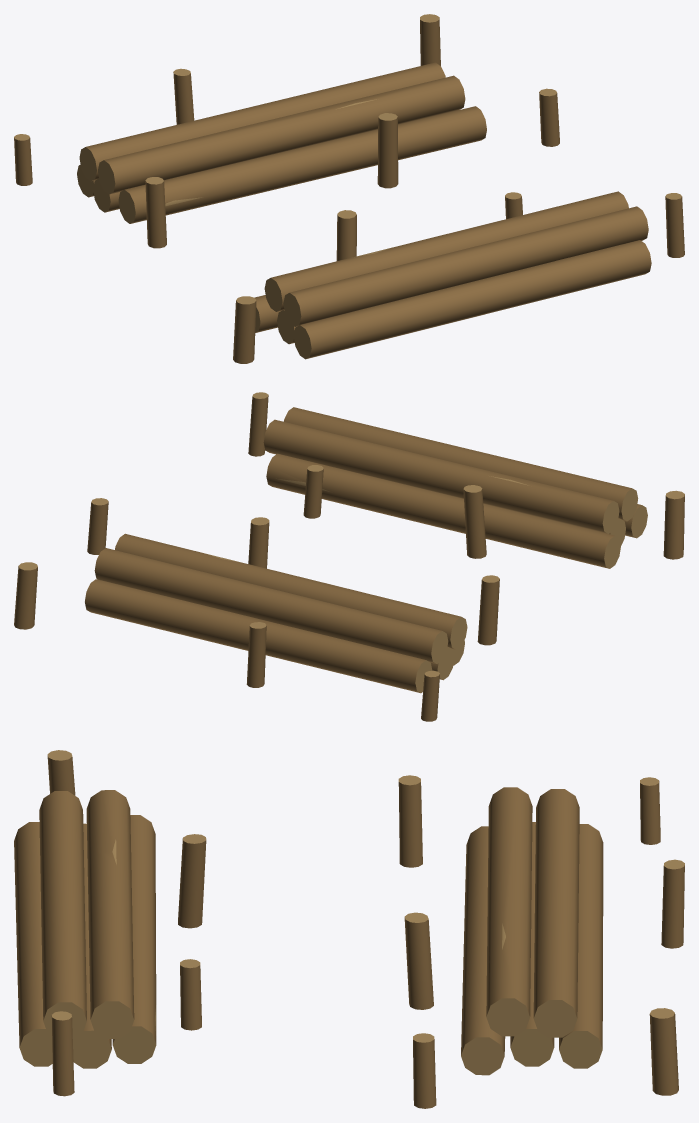
The model's file is quaternius-real-time-strategy-resource-pine-tree-group-cut.glb.
3 renders of one model, top to bottom at view 1: azimuth 30°, elevation 25°; view 2: azimuth 150°, elevation 25°; view 3: azimuth 270°, elevation 25°, orthographic. The views are drawn at different scales.
Parts seen in each view (by area): view 1: Resource_PineTree_Group_Cut; view 2: Resource_PineTree_Group_Cut; view 3: Resource_PineTree_Group_Cut.
Boxes of the visible parts, <box> form: Resource_PineTree_Group_Cut: <box>14,14,684,363</box>; Resource_PineTree_Group_Cut: <box>14,392,684,721</box>; Resource_PineTree_Group_Cut: <box>14,750,684,1108</box>.
Size of the model in its own units: 1.49 by 0.2116 by 1.48.
